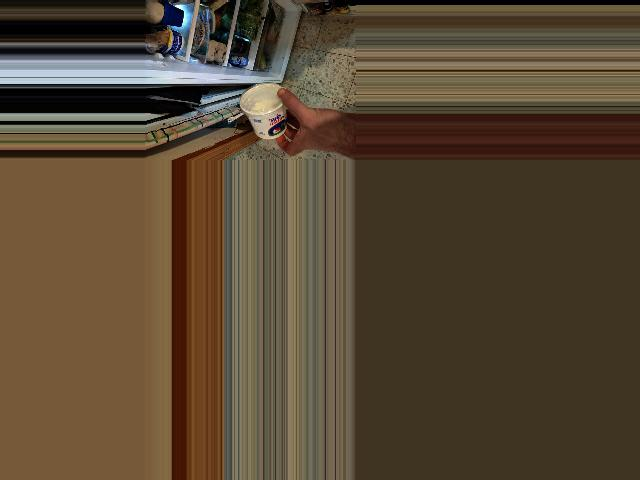cotage: (235, 90, 287, 133)
